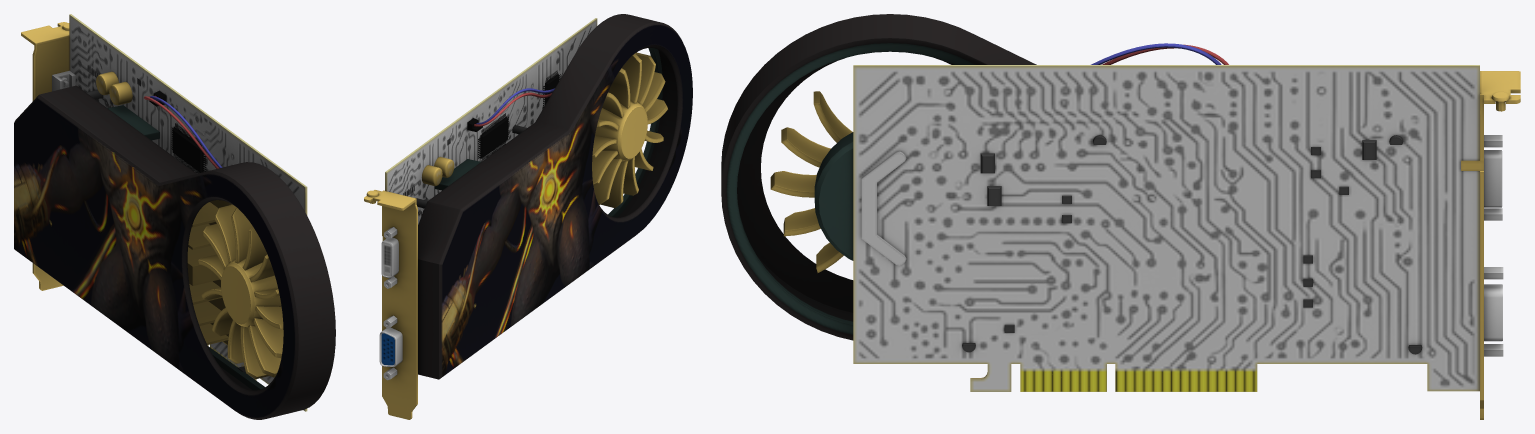
The model's file is gpu.glb.
3 renders of one model, left to right at view 1: azimuth 30°, elevation 25°; view 2: azimuth 150°, elevation 25°; view 3: azimuth 270°, elevation 25°, orthographic. The views are drawn at different scales.
Visible parts, largest first — view 1: vga_agp_g, vga_agp_g_fan; view 2: vga_agp_g, vga_agp_g_fan; view 3: vga_agp_g, vga_agp_g_fan.
Part boxes in pixels (left/top/right/bottom): vga_agp_g: left=14, top=14, right=335, bottom=419; vga_agp_g_fan: left=198, top=204, right=283, bottom=379; vga_agp_g: left=364, top=14, right=692, bottom=419; vga_agp_g_fan: left=592, top=52, right=667, bottom=207; vga_agp_g: left=721, top=14, right=1520, bottom=419; vga_agp_g_fan: left=770, top=91, right=852, bottom=272.
Size of the model in its own units: 0.0312 by 0.1152 by 0.2241.
1 material, 1 textured.
